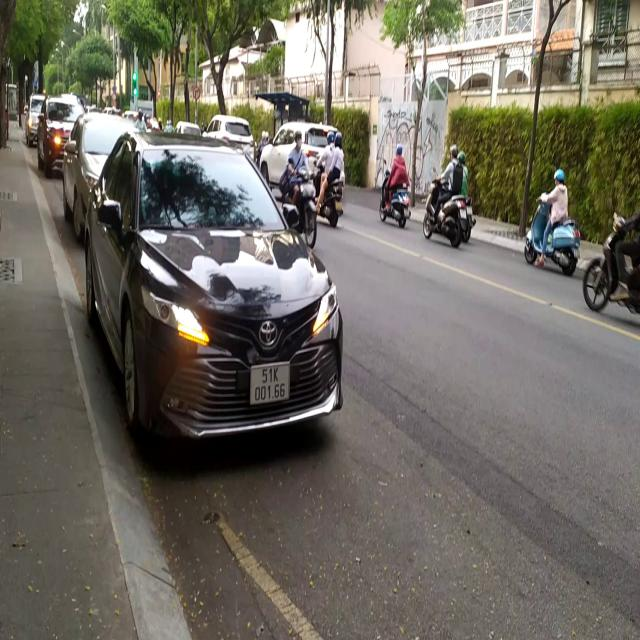bien_trang: (248, 357, 292, 409)
